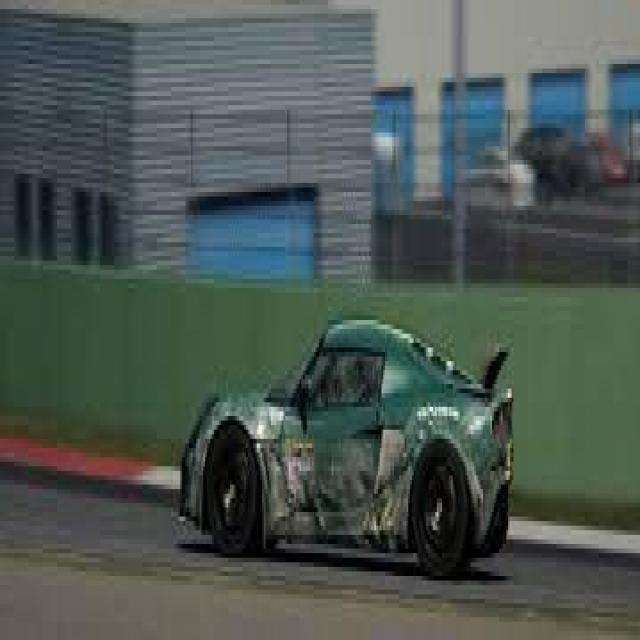damaged: (242, 412, 413, 554), (467, 425, 512, 558), (182, 402, 220, 535)
